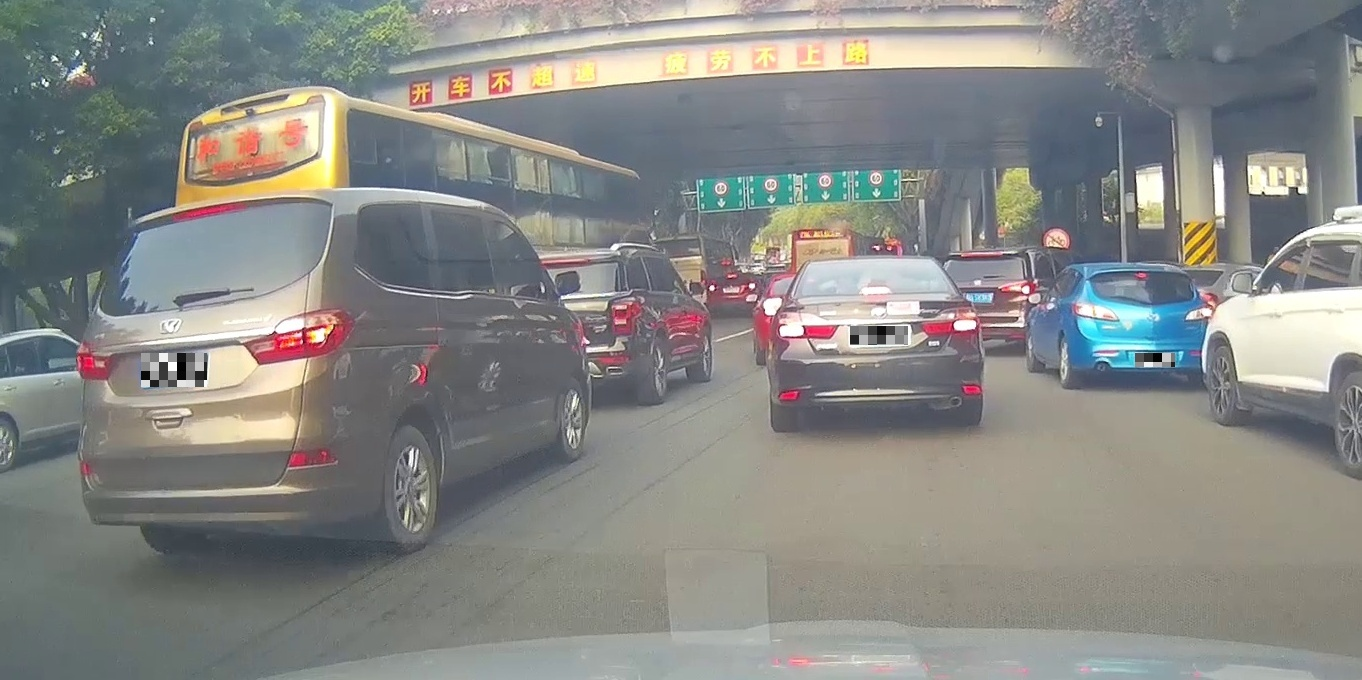L_light: (76, 341, 121, 381), (777, 312, 839, 339), (1074, 302, 1120, 322)
R_light: (243, 307, 352, 365), (921, 307, 980, 335), (1184, 307, 1213, 320)
T_light: (180, 203, 236, 217), (860, 286, 891, 295), (1134, 271, 1148, 278)
day-brake: (76, 189, 357, 556), (767, 255, 984, 432), (1073, 262, 1215, 390)
plate_1: (141, 353, 207, 387)
plate_2: (850, 326, 908, 345)
plate_3: (1135, 353, 1175, 367)
